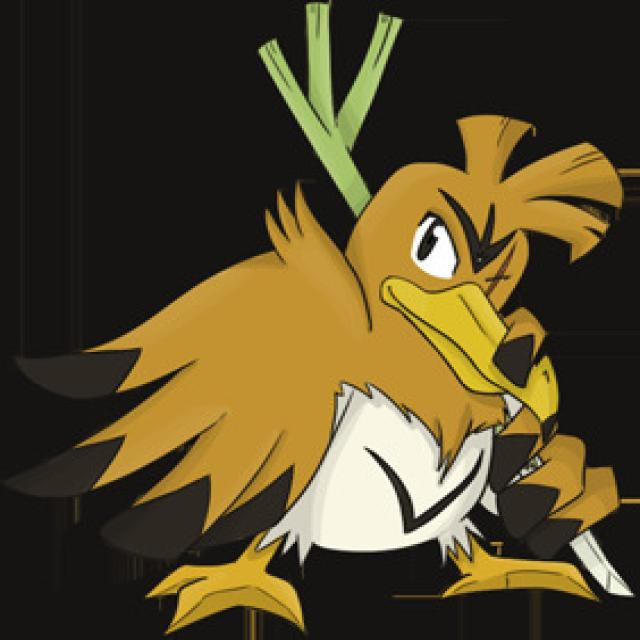Farfetchd: (191, 120, 568, 610)
